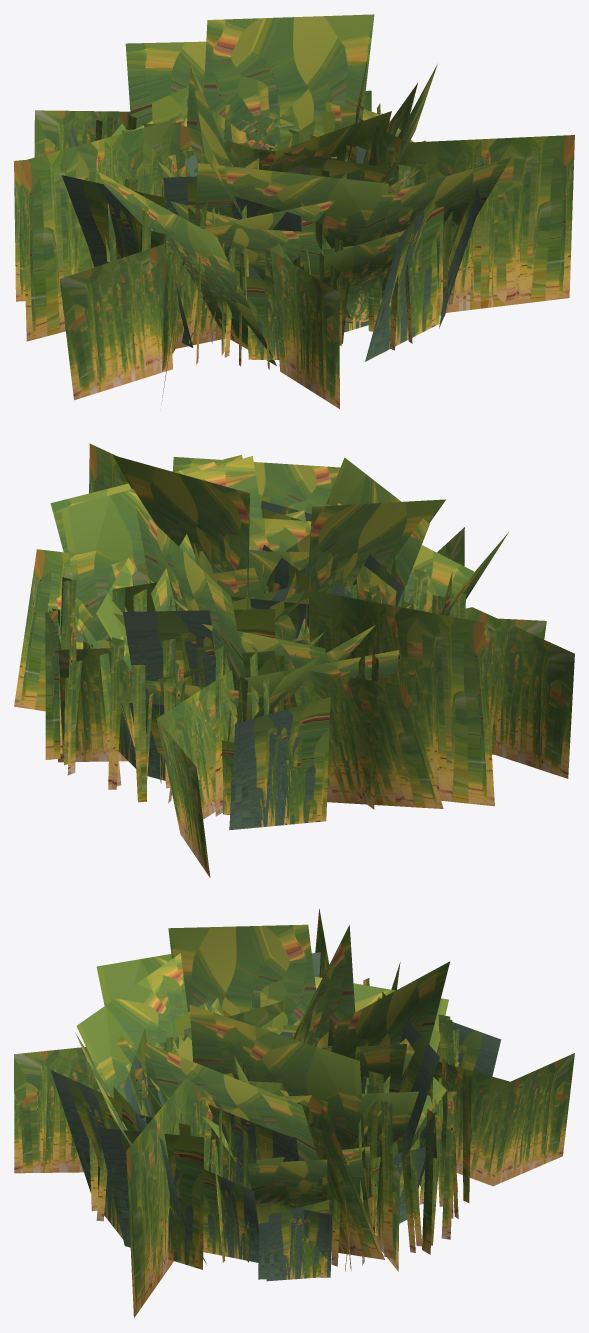
Rendered from grass.glb.
3 views of the same model, one above another, from view 1: azimuth 30°, elevation 25°; view 2: azimuth 150°, elevation 25°; view 3: azimuth 270°, elevation 25° (orthographic). The views are drawn at different scales.
Parts seen in each view (by area): view 1: Wheat_Grass_LowPoly, Grass_jumbled_Low_Spread_1, Grass_jumbled_Low_Dense_1, Grass_B_Low_Dense, Grass_jumbled_Low_Spread, Wheat_Grass_High_Dense, Grass_Jumbled_Low_Dense, Wheat_Grass_High_Spread; view 2: Wheat_Grass_LowPoly, Grass_B_Low_Dense, Grass_jumbled_Low_Dense_1, Grass_jumbled_Low_Spread_1, Grass_jumbled_Low_Spread, Wheat_Grass_High_Dense, Wheat_Grass_High_Spread, Grass_Jumbled_Low_Dense, Grass_B_Low_Small; view 3: Wheat_Grass_LowPoly, Grass_B_Low_Dense, Grass_jumbled_Low_Dense_1, Grass_jumbled_Low_Spread, Grass_jumbled_Low_Spread_1, Wheat_Grass_High_Dense, Wheat_Grass_High_Spread, Grass_Jumbled_Low_Dense.
Part boxes in pixels (box(x1,y1,x2,y2)): Wheat_Grass_LowPoly: box(14, 83, 574, 408); Grass_jumbled_Low_Spread_1: box(171, 14, 391, 216); Grass_jumbled_Low_Dense_1: box(83, 56, 405, 365); Grass_B_Low_Dense: box(61, 86, 484, 361); Grass_jumbled_Low_Spread: box(125, 41, 510, 323); Wheat_Grass_High_Dense: box(95, 90, 454, 369); Grass_Jumbled_Low_Dense: box(224, 104, 394, 183); Wheat_Grass_High_Spread: box(142, 123, 442, 315); Wheat_Grass_LowPoly: box(14, 443, 574, 877); Grass_B_Low_Dense: box(111, 494, 452, 830); Grass_jumbled_Low_Dense_1: box(61, 456, 508, 740); Grass_jumbled_Low_Spread_1: box(113, 455, 445, 638); Grass_jumbled_Low_Spread: box(47, 455, 473, 720); Wheat_Grass_High_Dense: box(45, 507, 444, 814); Wheat_Grass_High_Spread: box(58, 585, 466, 816); Grass_Jumbled_Low_Dense: box(116, 551, 345, 700); Grass_B_Low_Small: box(194, 549, 352, 638); Wheat_Grass_LowPoly: box(14, 909, 574, 1317); Grass_B_Low_Dense: box(50, 952, 501, 1281); Grass_jumbled_Low_Dense_1: box(76, 953, 448, 1198); Grass_jumbled_Low_Spread: box(75, 961, 449, 1264); Grass_jumbled_Low_Spread_1: box(168, 924, 355, 1087); Wheat_Grass_High_Dense: box(89, 1014, 471, 1271); Wheat_Grass_High_Spread: box(143, 978, 458, 1262); Grass_Jumbled_Low_Dense: box(202, 1008, 446, 1161).
Bounding box in the file's own units: 0.7234 × 0.4033 × 0.7185.
5 materials, 5 textured.
